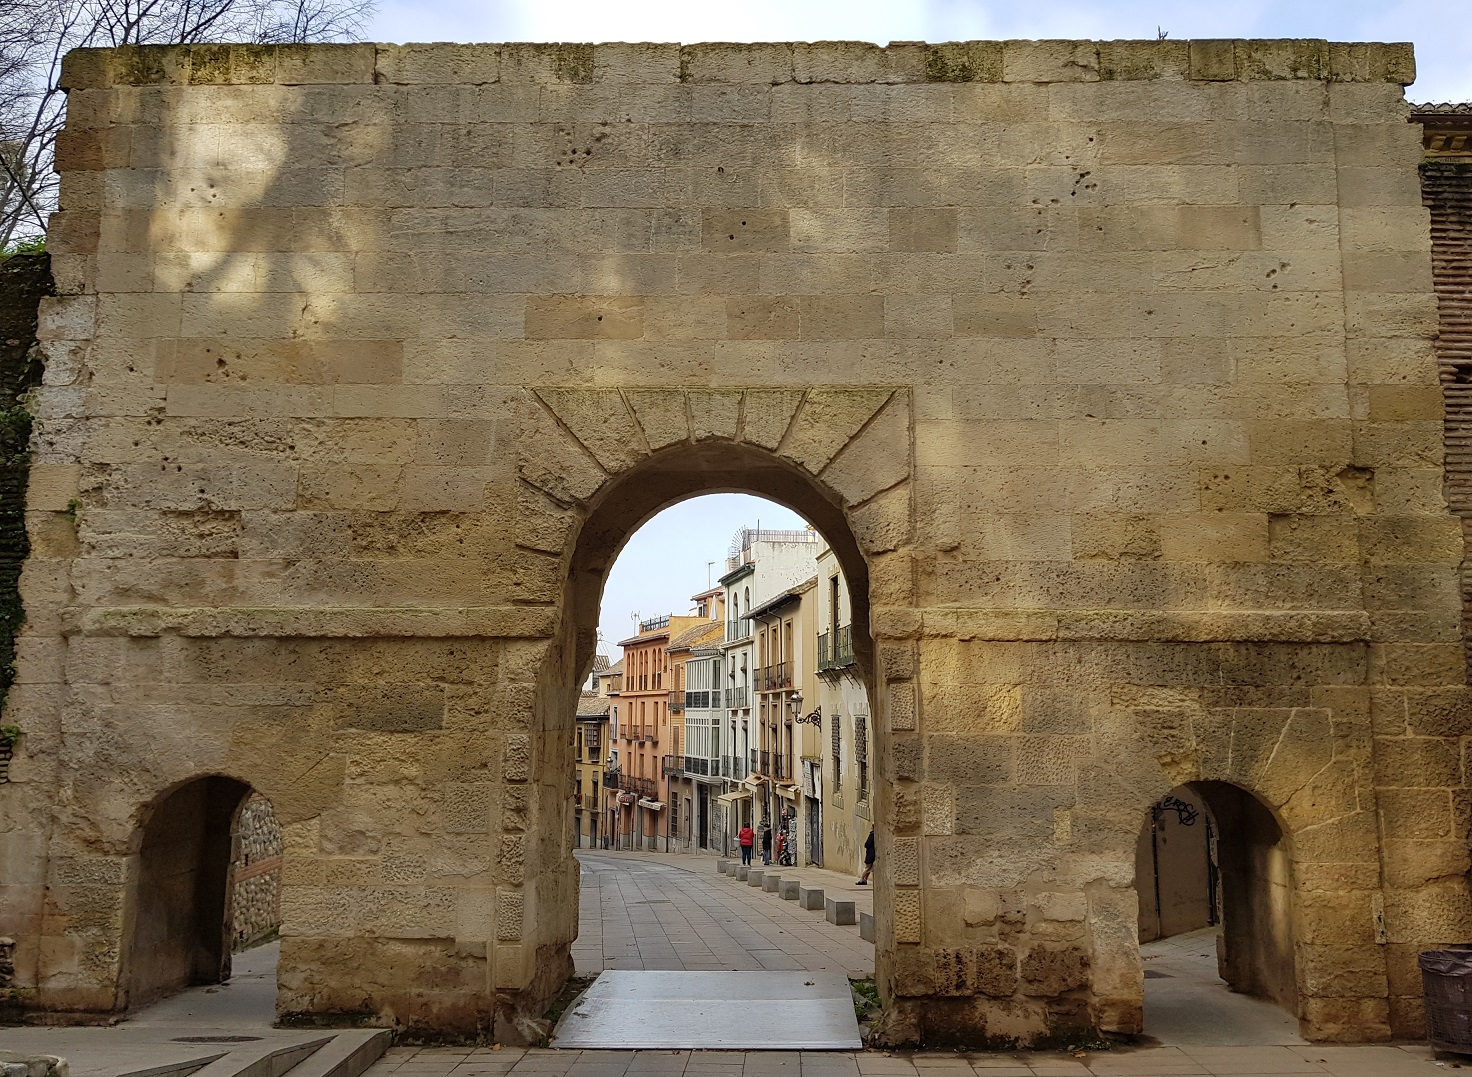arco-medio-punto: (549, 414, 891, 646), (1127, 772, 1311, 904), (117, 765, 291, 885)
